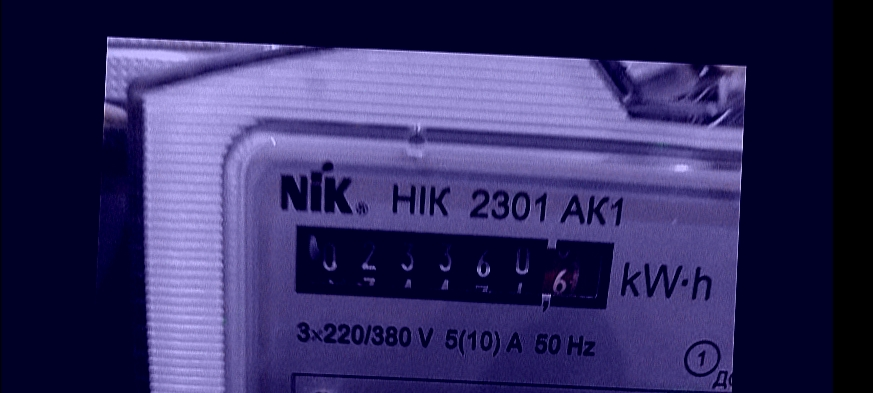0: (319, 237, 342, 273), (512, 242, 535, 278)
2: (359, 237, 381, 273)
3: (398, 239, 419, 274), (437, 239, 456, 274)
6: (473, 244, 495, 279), (551, 263, 570, 296)
screen: (280, 212, 635, 327)
